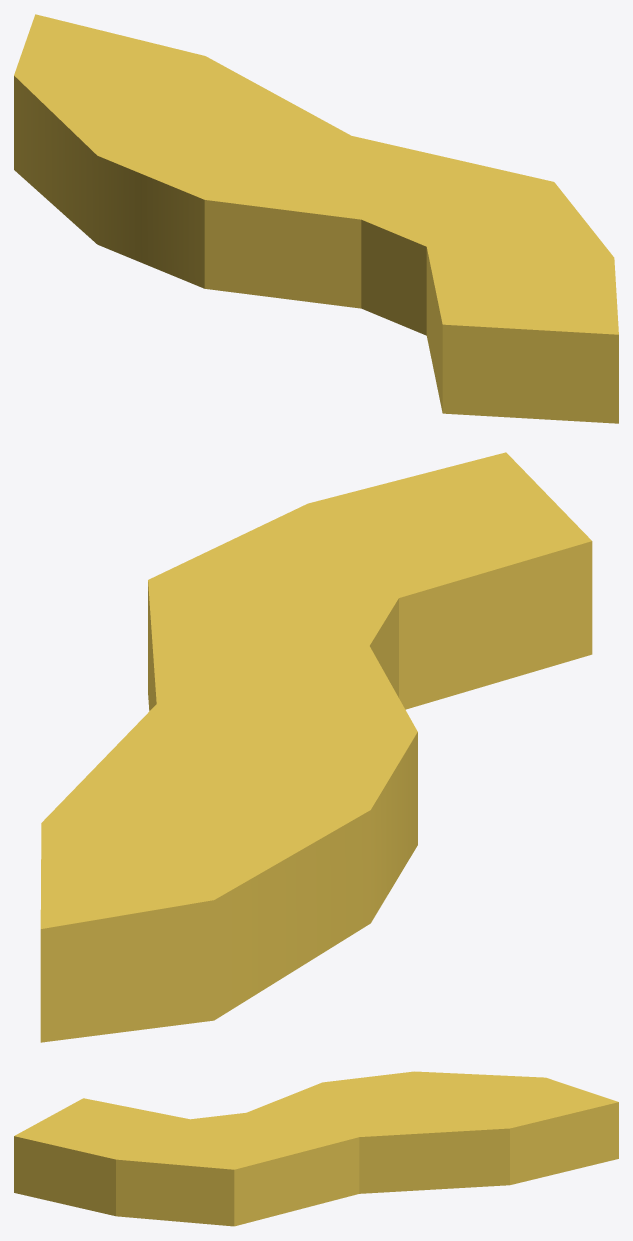
3 renders of one model, top to bottom at view 1: azimuth 30°, elevation 25°; view 2: azimuth 150°, elevation 25°; view 3: azimuth 270°, elevation 25°, orthographic. The views are drawn at different scales.
Parts seen in each view (by area): view 1: SM_Shape_S__01; view 2: SM_Shape_S__01; view 3: SM_Shape_S__01.
Boxes of the visible parts, x1=… form: SM_Shape_S__01: x1=14, y1=14, x2=618, y2=423; SM_Shape_S__01: x1=40, y1=452, x2=592, y2=1042; SM_Shape_S__01: x1=14, y1=1071, x2=618, y2=1226.
Bounding box in the file's own units: 4.2 × 1.2 × 10.93.
